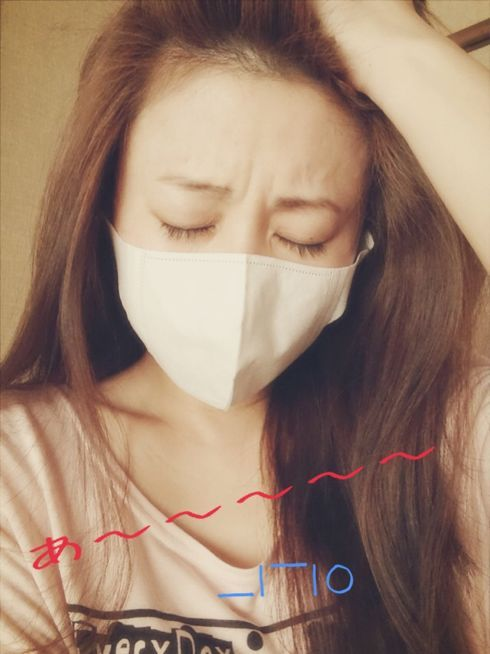face_mask: (112, 136, 353, 411)
